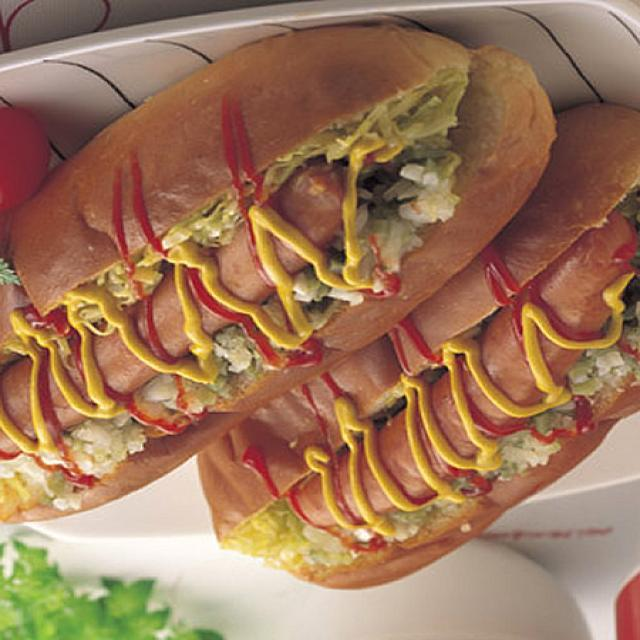Hot Dog: (0, 16, 550, 556)
